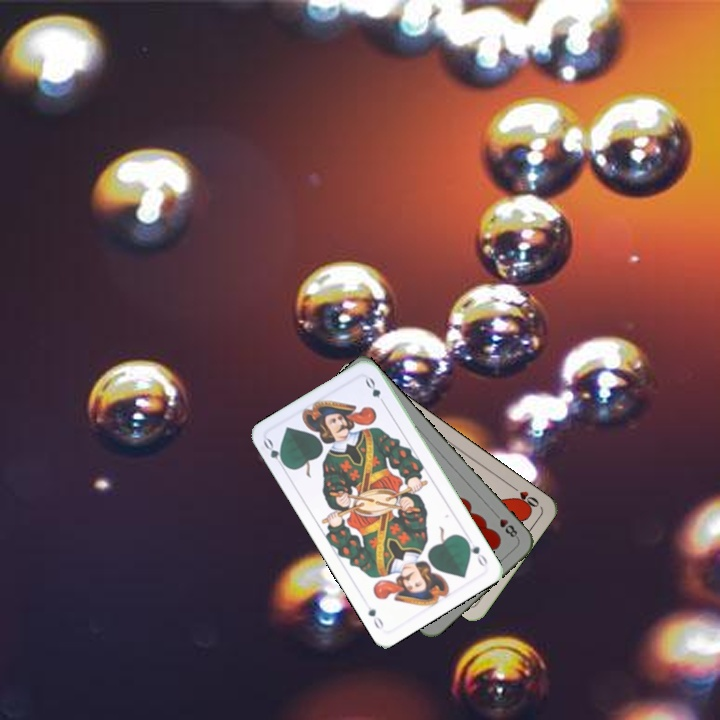GO: (259, 434, 290, 472), (461, 535, 490, 570)
H8: (490, 508, 521, 541)
HO: (507, 482, 542, 511)
